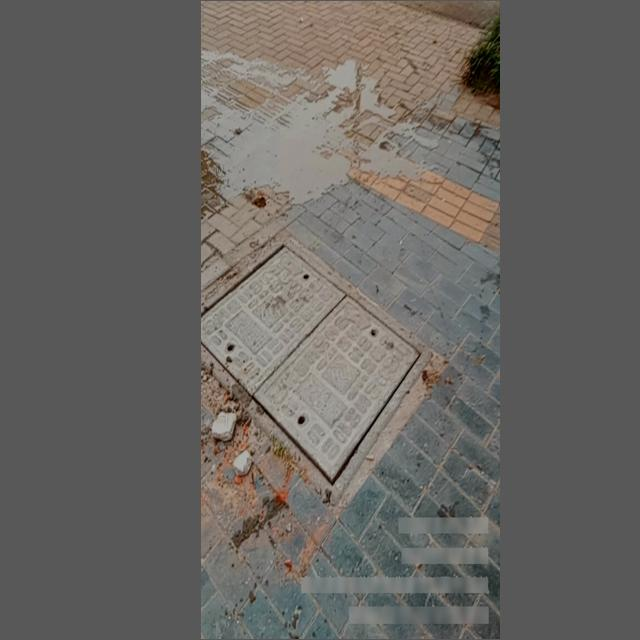good: (201, 228, 434, 504)
